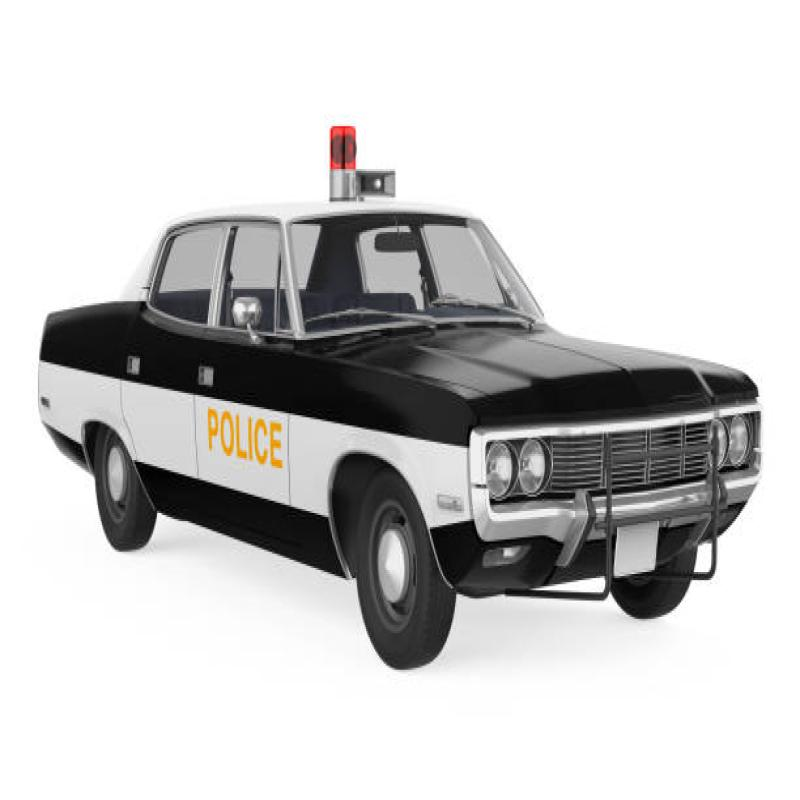AmbulanceSiren: (315, 99, 375, 194)
